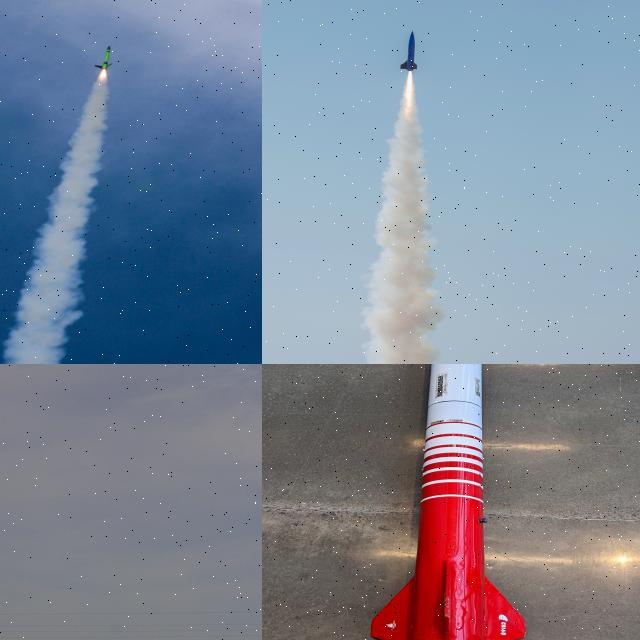Rocket: (370, 364, 526, 640), (400, 30, 418, 72), (94, 46, 113, 70)
